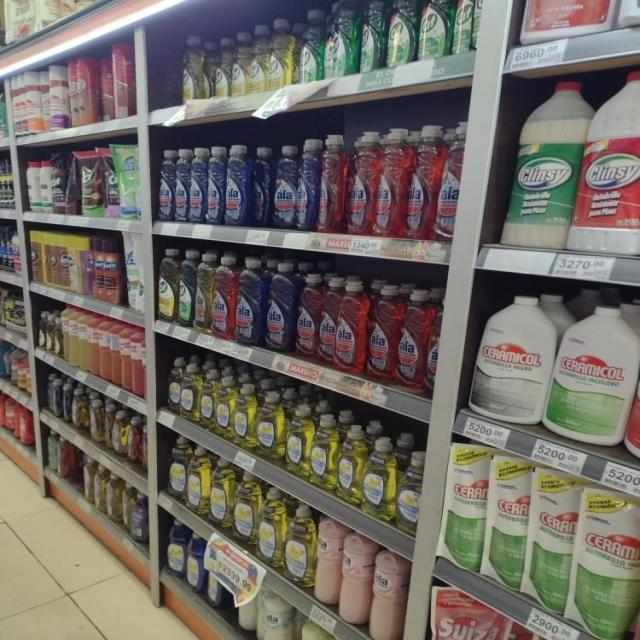ala_conc_amarillo: (195, 252, 212, 332)
ala_conc_azul: (265, 261, 295, 352), (236, 256, 264, 346), (272, 144, 296, 230), (296, 139, 318, 232), (226, 144, 250, 227), (251, 145, 272, 228), (208, 145, 225, 226), (156, 149, 174, 222), (190, 147, 206, 224), (175, 148, 189, 223)
ala_conc_rojo: (438, 125, 474, 242), (408, 125, 439, 240), (377, 128, 409, 238), (398, 288, 431, 389), (347, 131, 377, 236), (367, 285, 398, 381), (336, 280, 367, 372), (319, 134, 346, 235), (296, 272, 320, 360), (212, 254, 235, 340), (319, 276, 337, 366)
ala_crem_amarillo: (257, 594, 293, 640)
cif_conc_bot_amarilla: (157, 248, 178, 324)
cif_conc_botella_verde: (387, 0, 418, 67), (419, 0, 451, 61), (360, 0, 386, 72), (178, 249, 194, 327), (214, 34, 231, 98)
magistral_con_amarillo: (363, 436, 394, 520), (396, 451, 425, 535), (286, 504, 314, 589), (310, 412, 336, 489), (259, 486, 284, 566), (337, 422, 361, 504), (256, 390, 282, 459), (234, 472, 258, 546), (286, 403, 310, 476), (210, 459, 232, 530), (187, 446, 209, 515), (233, 383, 254, 447), (167, 437, 187, 501), (180, 362, 199, 421), (216, 372, 232, 438), (200, 367, 215, 429), (166, 357, 180, 414)
magistral_con_azul: (166, 520, 186, 578)
